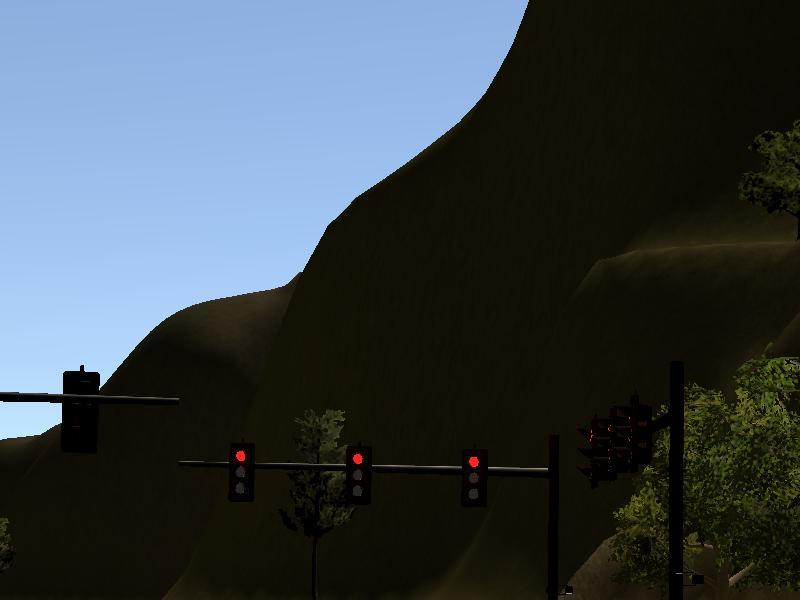Red: (465, 448, 488, 507), (347, 446, 370, 503), (233, 444, 255, 502)
